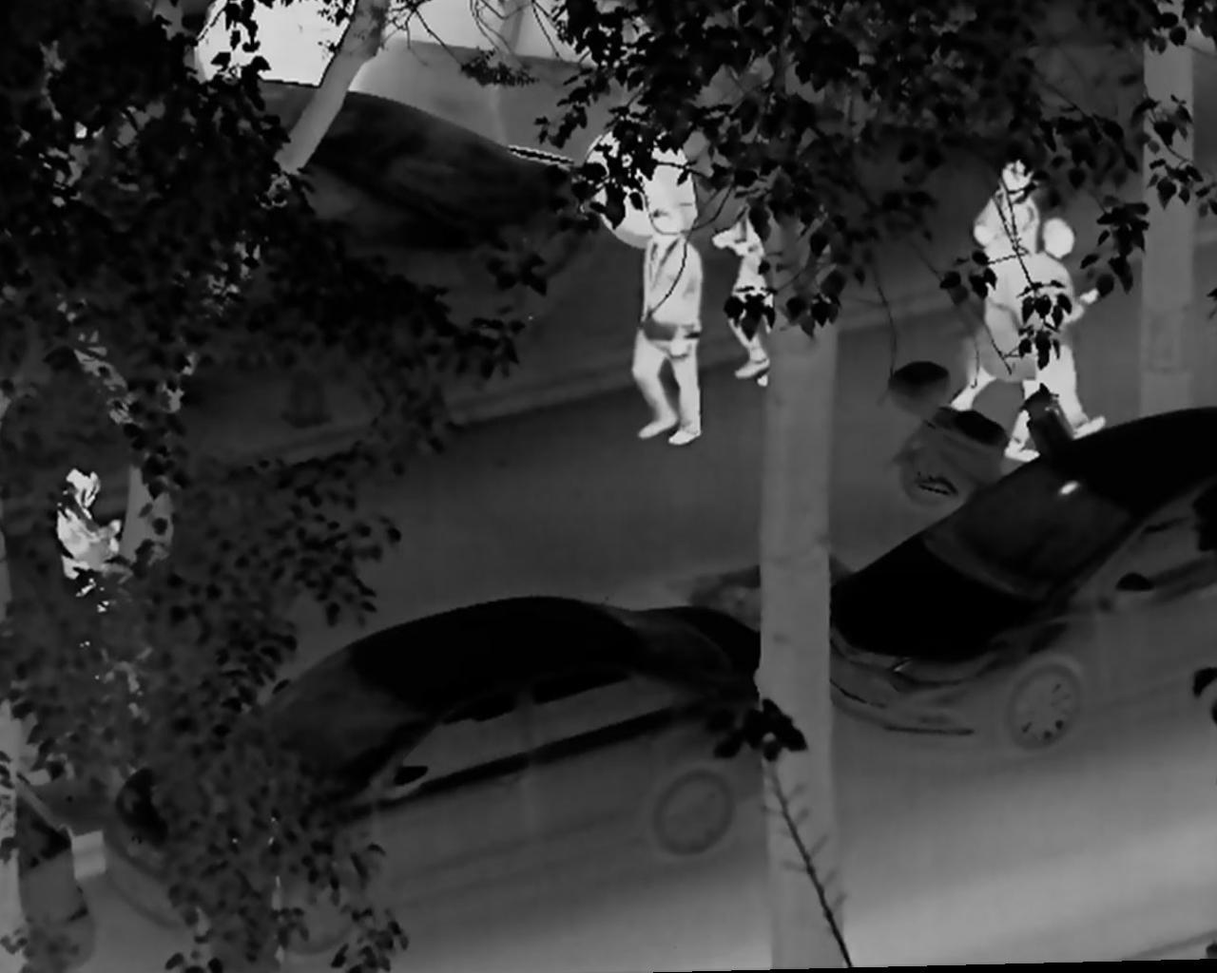person: (946, 152, 1057, 412), (1000, 214, 1105, 464), (628, 205, 709, 447), (711, 172, 777, 391), (55, 466, 117, 681)
